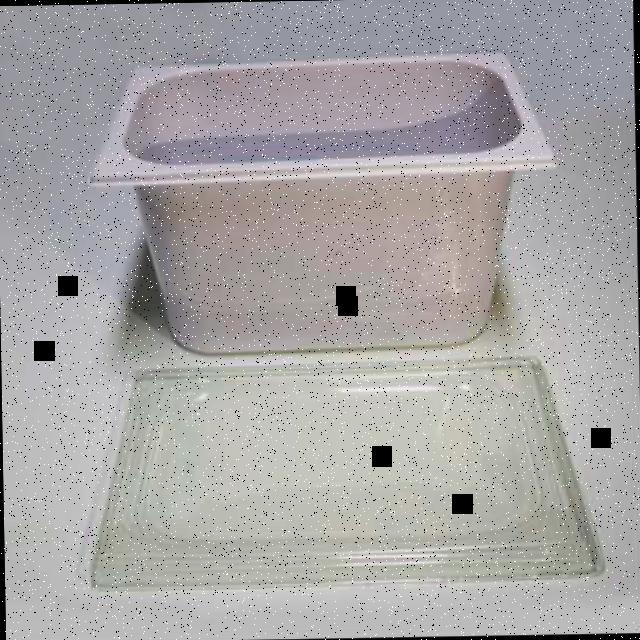plastic_box: (92, 59, 564, 351)
